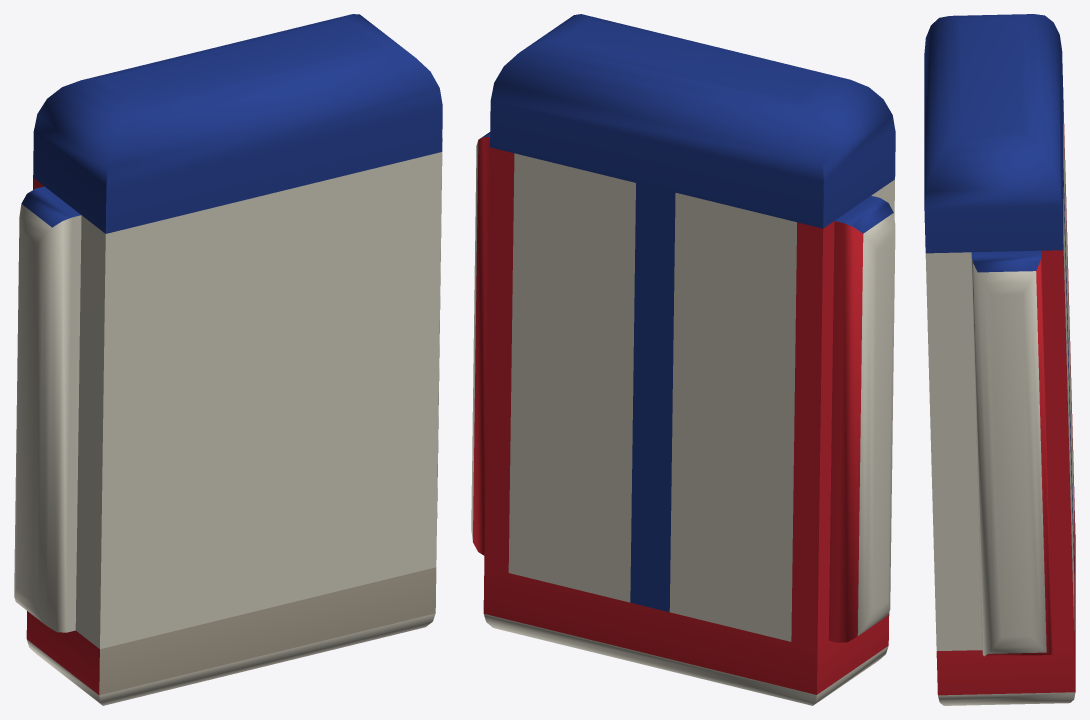
The model's file is kiseonik torba.fbx.
3 renders of one model, left to right at view 1: azimuth 30°, elevation 25°; view 2: azimuth 150°, elevation 25°; view 3: azimuth 270°, elevation 25°, orthographic. The views are drawn at different scales.
Parts seen in each view (by area): view 1: Cube; view 2: Cube; view 3: Cube.
Boxes of the visible parts, bbox=[...] form: Cube: bbox=[14, 14, 442, 705]; Cube: bbox=[471, 14, 895, 705]; Cube: bbox=[924, 14, 1075, 705].
Bounding box in the file's own units: 33.94 × 47.47 × 11.63.
